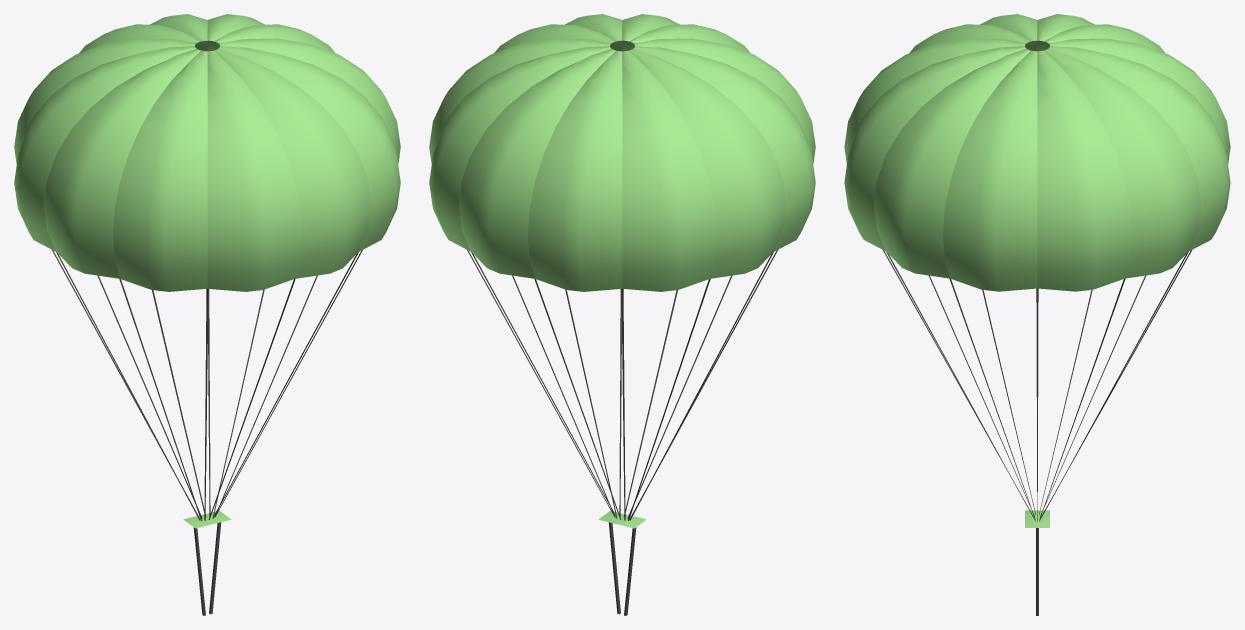
The model's file is parachute.fbx.
3 renders of one model, left to right at view 1: azimuth 30°, elevation 25°; view 2: azimuth 150°, elevation 25°; view 3: azimuth 270°, elevation 25°, orthographic.
Visible parts, largest first — view 1: Parachute; view 2: Parachute; view 3: Parachute.
Boxes of the visible parts, x1,y1,x2,y2 form: Parachute: [14, 14, 400, 615]; Parachute: [429, 14, 815, 615]; Parachute: [844, 14, 1230, 615].
Bounding box in the file's own units: 3.68 × 3.68 × 5.97.
